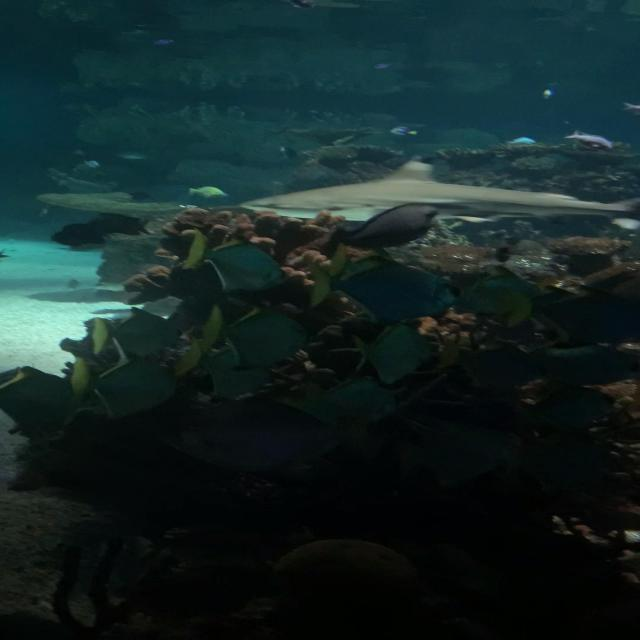fish: (159, 396, 332, 469), (305, 255, 456, 322), (522, 285, 640, 346), (68, 353, 176, 416), (395, 429, 510, 488), (180, 227, 282, 290), (506, 434, 612, 494), (0, 366, 84, 440), (205, 304, 303, 366), (326, 202, 437, 256), (178, 341, 270, 398), (436, 344, 539, 392), (523, 344, 630, 386), (351, 323, 428, 381), (462, 269, 552, 317), (92, 308, 181, 355), (304, 379, 393, 425), (526, 391, 612, 428), (561, 129, 618, 152), (186, 185, 231, 200), (114, 148, 150, 162), (503, 136, 538, 148), (390, 125, 421, 138), (618, 101, 640, 115), (151, 37, 176, 46), (370, 62, 395, 70), (540, 88, 555, 100)
shark: (236, 158, 640, 223)
